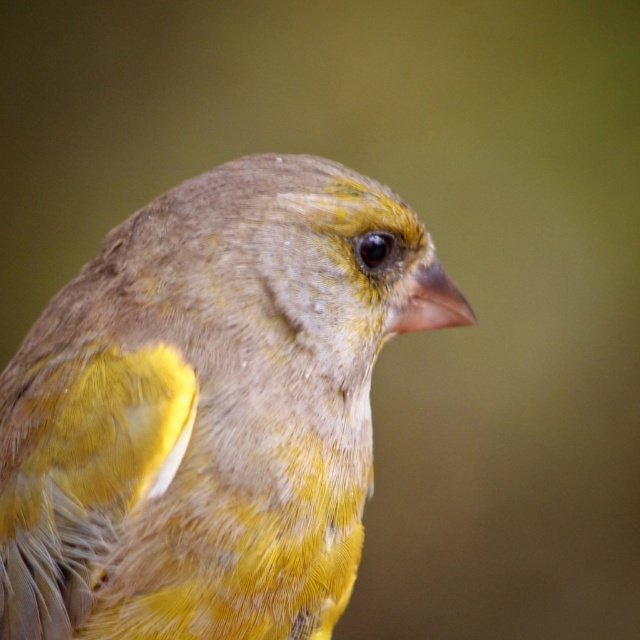Sparrow: (2, 152, 477, 640)
